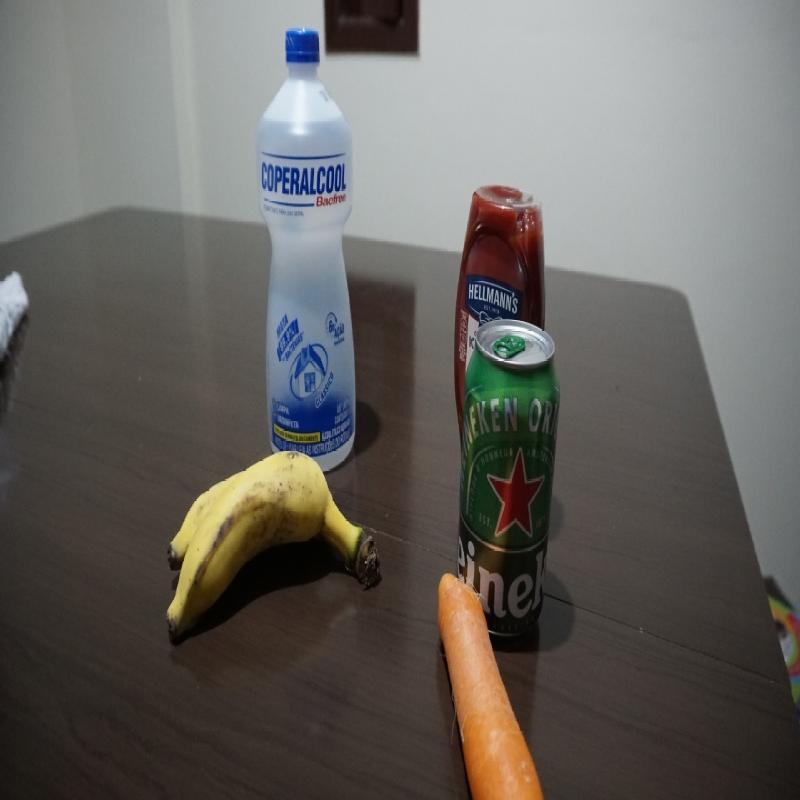Alcohol Bottle: (260, 25, 357, 449)
Banana: (165, 448, 380, 640)
Beer can: (459, 319, 559, 561)
Carrot: (436, 571, 544, 796)
Ketchup: (454, 182, 549, 324)
